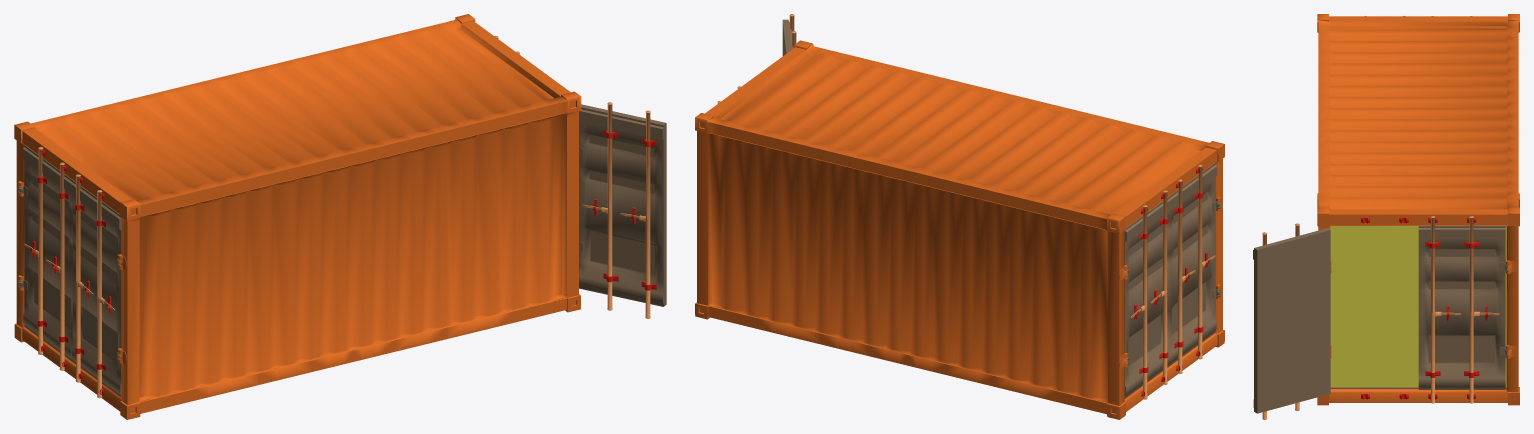
The model's file is cont2.fbx.
3 renders of one model, left to right at view 1: azimuth 30°, elevation 25°; view 2: azimuth 150°, elevation 25°; view 3: azimuth 270°, elevation 25°, orthographic. The views are drawn at different scales.
Parts seen in each view (by area): view 1: CamsAndKeepers_low; view 2: CamsAndKeepers_low; view 3: CamsAndKeepers_low.
Part boxes in pixels (box(x1,y1,x2,y2)): CamsAndKeepers_low: box(14, 14, 666, 419); CamsAndKeepers_low: box(695, 14, 1224, 419); CamsAndKeepers_low: box(1253, 14, 1519, 419).
Bounding box in the file's own units: 200 × 79.96 × 101.
